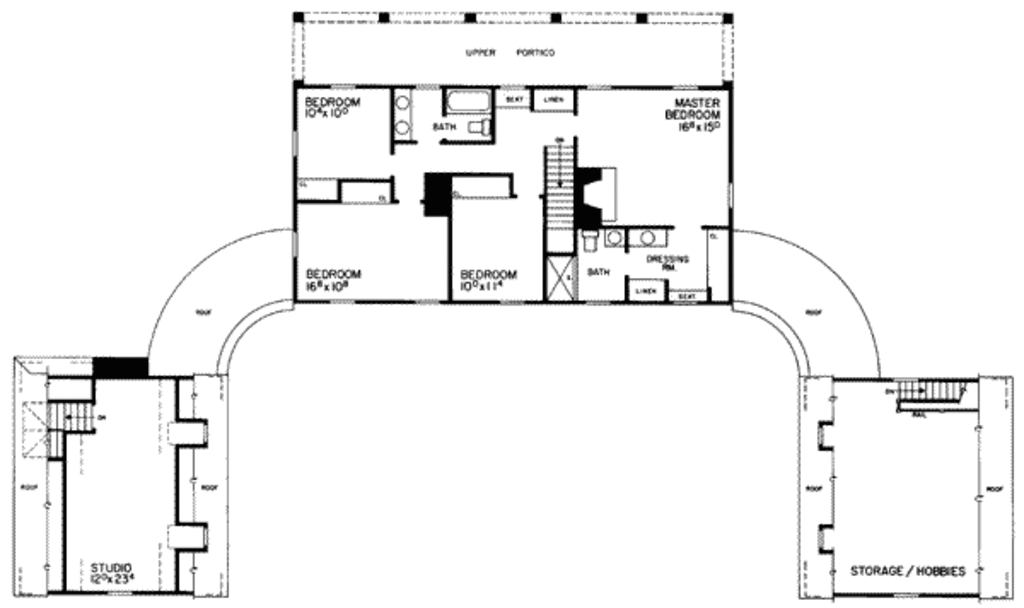large_sink: (577, 224, 603, 258), (462, 115, 496, 138)
small_sink: (391, 85, 414, 141), (626, 228, 669, 250)
stairs: (539, 135, 579, 254), (43, 401, 103, 466), (882, 376, 977, 412)
tub: (442, 83, 495, 115)
windows: (287, 224, 302, 261), (667, 79, 701, 94), (327, 80, 360, 95), (325, 293, 355, 308), (410, 296, 444, 306), (289, 125, 300, 155), (582, 83, 612, 92), (728, 178, 736, 210)
